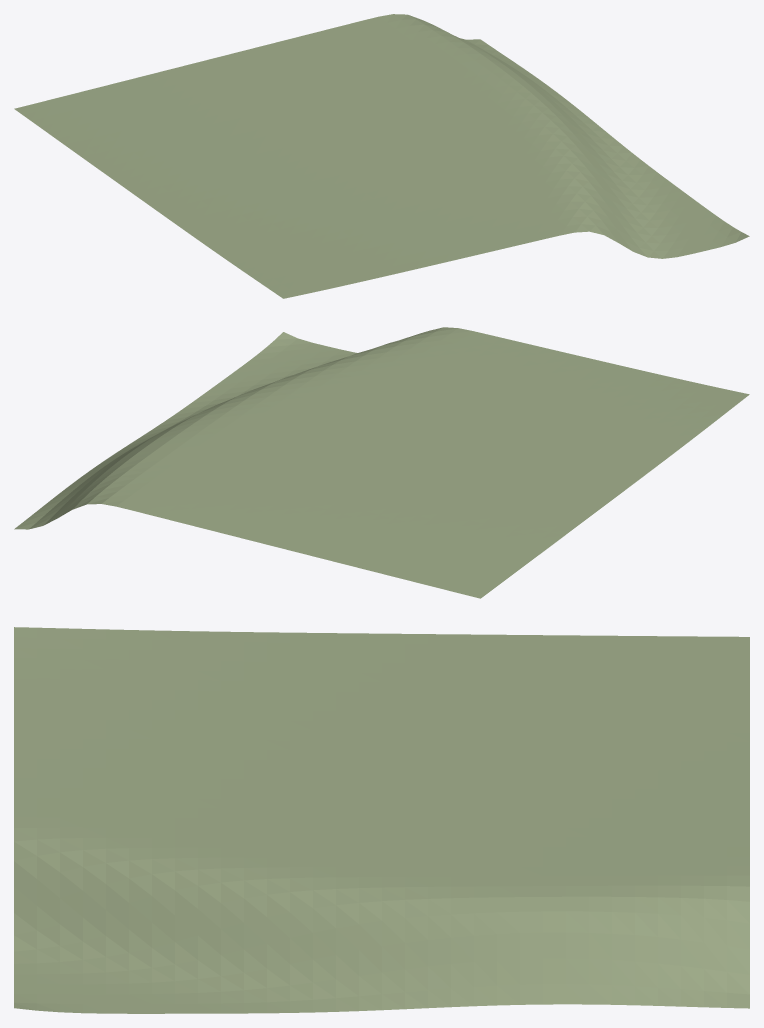
Rendered from lunar-4-1.glb.
The picture shows the model from 3 angles, top to bottom: view 1: azimuth 30°, elevation 25°; view 2: azimuth 150°, elevation 25°; view 3: azimuth 270°, elevation 25°; orthographic projection. The views are drawn at different scales.
Parts seen in each view (by area): view 1: lunar-4-1; view 2: lunar-4-1; view 3: lunar-4-1.
Boxes of the visible parts, x1,y1,x2,y2 form: lunar-4-1: (14, 14, 749, 298); lunar-4-1: (14, 327, 749, 598); lunar-4-1: (14, 627, 749, 1013).
Bounding box in the file's own units: 128 × 14.52 × 128.
